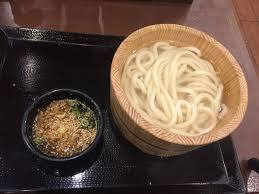kamaage: (100, 16, 254, 175)
